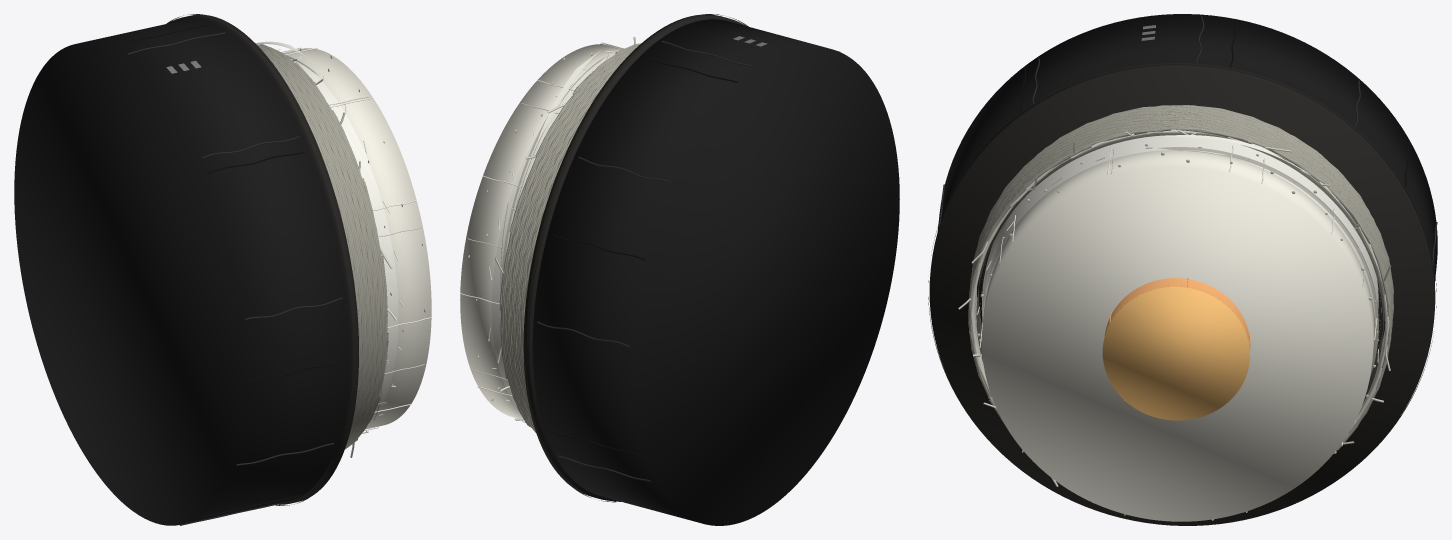
The model's file is rf-lmr1700-macro.glb.
3 views of the same model, side by side, from view 1: azimuth 30°, elevation 25°; view 2: azimuth 150°, elevation 25°; view 3: azimuth 270°, elevation 25° (orthographic).
Visible parts, largest first — view 1: macro jacket body, macro dielectric exposed core, thick jacket cut wall, continuous foil sleeve under braid, rounded jacket cut lip, macro braid shadow carrier 08 strand 1, macro braid shadow carrier 07 strand 3, macro braid shadow carrier 09 strand 3, macro braid shadow carrier 08 strand 3, macro braid shadow carrier 09 strand 1; view 2: macro jacket body, macro dielectric exposed core, thick jacket cut wall, continuous foil sleeve under braid, rounded jacket cut lip, raised foil lap seam; view 3: macro dielectric exposed core, thick jacket cut wall, macro jacket body, polished conductor cut face glow, continuous foil sleeve under braid, shadow seen through braid windows, raised foil lap seam, rounded jacket cut lip, polished solid center conductor, macro braid shadow carrier 02 strand 1, macro braid shadow carrier 03 strand 3, macro braid shadow carrier 11 strand 3.
Part boxes in pixels (x1,y1,x2,y2): macro jacket body: (14, 19, 349, 525); macro dielectric exposed core: (283, 48, 431, 429); thick jacket cut wall: (168, 14, 358, 504); continuous foil sleeve under braid: (290, 59, 398, 422); rounded jacket cut lip: (166, 14, 355, 505); macro braid shadow carrier 08 strand 1: (300, 107, 383, 429); macro braid shadow carrier 07 strand 3: (307, 78, 382, 441); macro braid shadow carrier 09 strand 3: (299, 101, 384, 425); macro braid shadow carrier 08 strand 3: (287, 85, 383, 443); macro braid shadow carrier 09 strand 1: (283, 78, 385, 440); macro jacket body: (532, 19, 899, 525); macro dielectric exposed core: (460, 44, 623, 418); thick jacket cut wall: (523, 14, 745, 501); continuous foil sleeve under braid: (491, 55, 613, 406); rounded jacket cut lip: (526, 14, 748, 502); raised foil lap seam: (501, 56, 606, 287); macro dielectric exposed core: (981, 150, 1374, 521); thick jacket cut wall: (929, 64, 1435, 525); macro jacket body: (937, 14, 1437, 282); polished conductor cut face glow: (1102, 286, 1249, 420); continuous foil sleeve under braid: (982, 135, 1378, 363); shadow seen through braid windows: (976, 133, 1384, 402); raised foil lap seam: (982, 147, 1378, 377); rounded jacket cut lip: (928, 63, 1436, 473); polished solid center conductor: (1104, 278, 1250, 349); macro braid shadow carrier 02 strand 1: (971, 111, 1392, 389); macro braid shadow carrier 03 strand 3: (974, 111, 1392, 321); macro braid shadow carrier 11 strand 3: (969, 106, 1393, 396).
Size of the model in its own units: 6.77 by 12.22 by 12.23.
